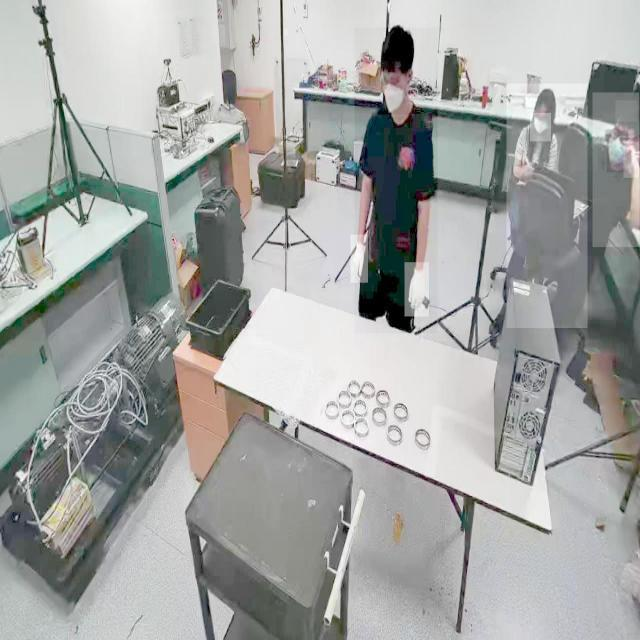gloves: (404, 262, 430, 318), (351, 234, 368, 284)
